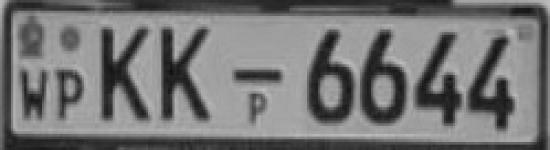-: (232, 67, 286, 87)
4: (413, 27, 466, 129), (468, 30, 520, 133)
6: (297, 24, 359, 130), (362, 25, 412, 126)
K: (96, 22, 158, 125), (160, 24, 220, 126)
P: (54, 66, 88, 126)
W: (16, 66, 52, 126)
